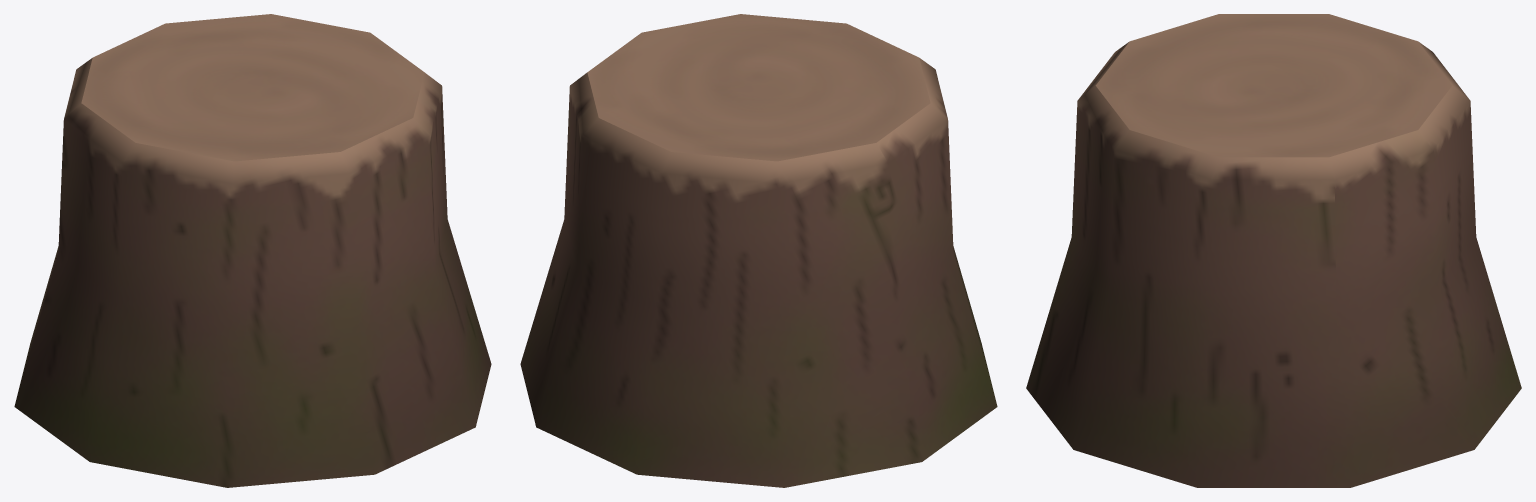
Rendered from logStand_mesh.fbx.
3 views of the same model, side by side, from view 1: azimuth 30°, elevation 25°; view 2: azimuth 150°, elevation 25°; view 3: azimuth 270°, elevation 25° (orthographic).
Parts seen in each view (by area): view 1: logStand; view 2: logStand; view 3: logStand.
Part boxes in pixels (x1=…): logStand: x1=14, y1=14, x2=491, y2=487; logStand: x1=520, y1=14, x2=997, y2=487; logStand: x1=1026, y1=14, x2=1521, y2=487.
Size of the model in its own units: 64.93 by 45.99 by 68.28.
